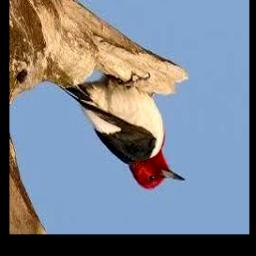Woodpecker: (65, 79, 185, 189)
